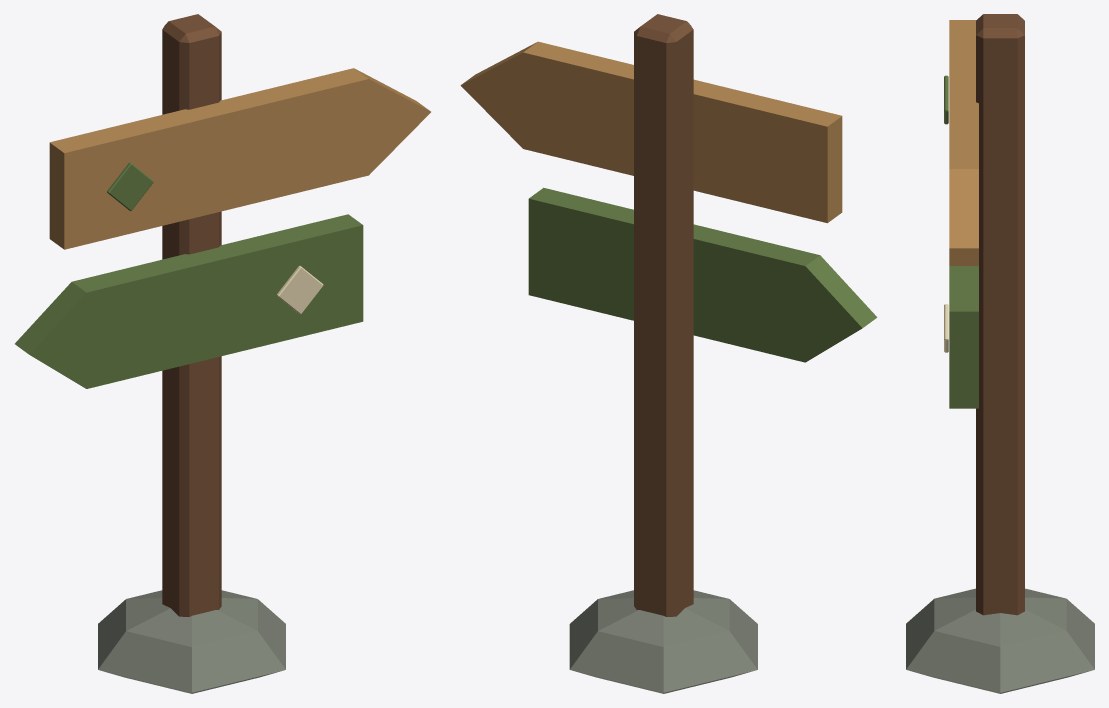
Rendered from 07_Trail_Signpost.glb.
3 renders of one model, left to right at view 1: azimuth 30°, elevation 25°; view 2: azimuth 150°, elevation 25°; view 3: azimuth 270°, elevation 25°, orthographic.
Visible parts, largest first — view 1: 07_Trail_Signpost__Body; view 2: 07_Trail_Signpost__Body; view 3: 07_Trail_Signpost__Body.
Boxes of the visible parts, box(x1,y1,x2,y2) form: 07_Trail_Signpost__Body: box(15, 14, 430, 693); 07_Trail_Signpost__Body: box(460, 14, 877, 693); 07_Trail_Signpost__Body: box(906, 14, 1094, 693).
Bounding box in the file's own units: 2.18 × 3.3 × 0.8833.
Materials: 1 (1 with a texture image).
